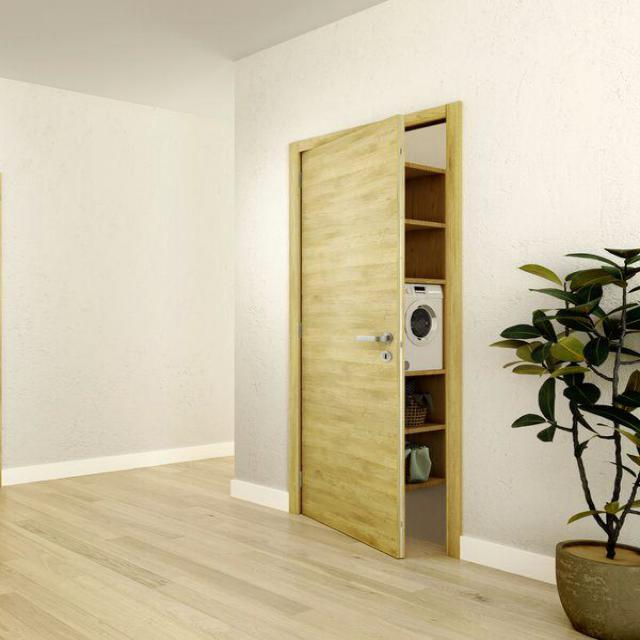door: (284, 95, 480, 570)
